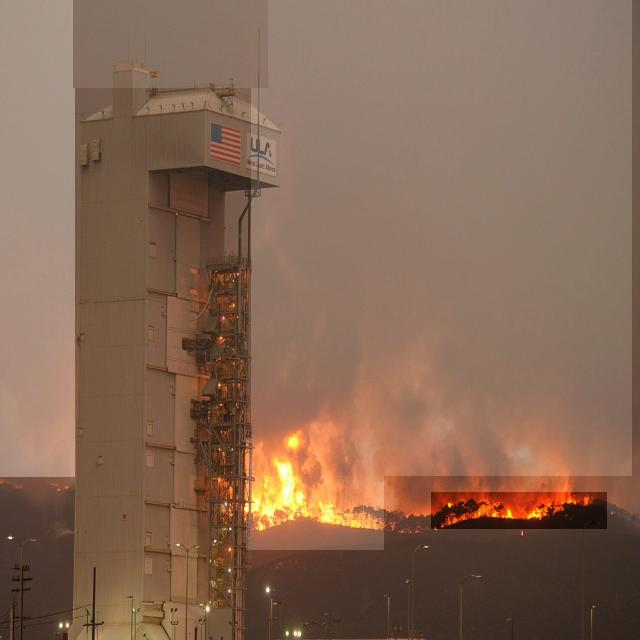Fire: (246, 438, 384, 550), (432, 492, 608, 529)
Smoke: (251, 0, 632, 476), (0, 0, 75, 477), (73, 0, 268, 88)
